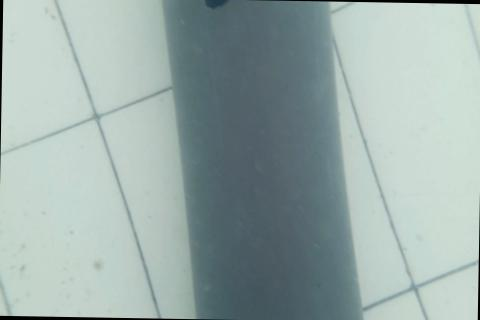kebocoran: (201, 0, 233, 13)
